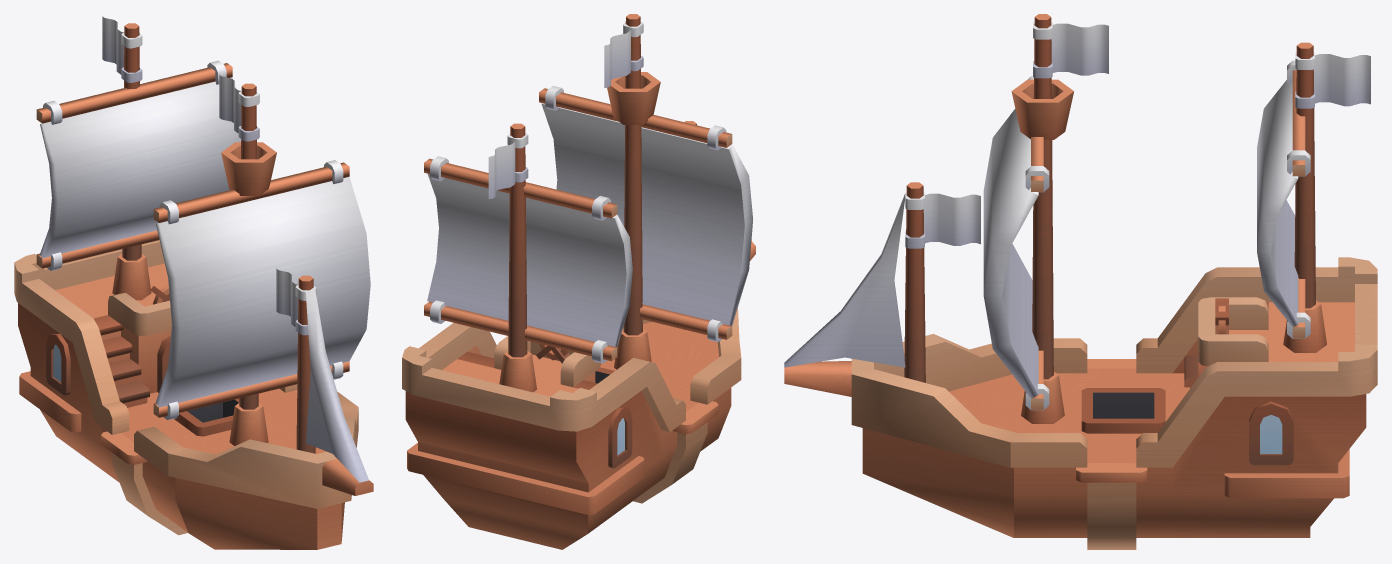
File: boat.glb
3 renders of one model, left to right at view 1: azimuth 30°, elevation 25°; view 2: azimuth 150°, elevation 25°; view 3: azimuth 270°, elevation 25°, orthographic. The views are drawn at different scales.
Parts seen in each view (by area): view 1: ship-small, sail-a, sail-b, flag-b, flag-c, flag-a; view 2: ship-small, sail-a, sail-b, flag-c, flag-b; view 3: ship-small, sail-a, sail-b, flag-b, flag-a, flag-c.
Boxes of the visible parts, <box> form: ship-small: <box>14,23,373,549</box>; sail-a: <box>153,160,370,419</box>; sail-b: <box>36,60,241,270</box>; flag-b: <box>219,73,259,141</box>; flag-c: <box>102,16,142,82</box>; flag-a: <box>276,268,316,335</box>; ship-small: <box>402,14,755,549</box>; sail-a: <box>539,86,753,341</box>; sail-b: <box>424,156,632,363</box>; flag-c: <box>488,133,528,199</box>; flag-b: <box>604,21,643,87</box>; ship-small: <box>784,14,1377,549</box>; sail-a: <box>983,76,1049,410</box>; sail-b: <box>1257,60,1310,338</box>; flag-b: <box>1033,22,1108,78</box>; flag-a: <box>905,192,980,248</box>; flag-c: <box>1295,52,1370,108</box>.
Bounding box in the file's own units: 4.8 × 9.96 × 10.6.
Materials: 1 (1 with a texture image).
